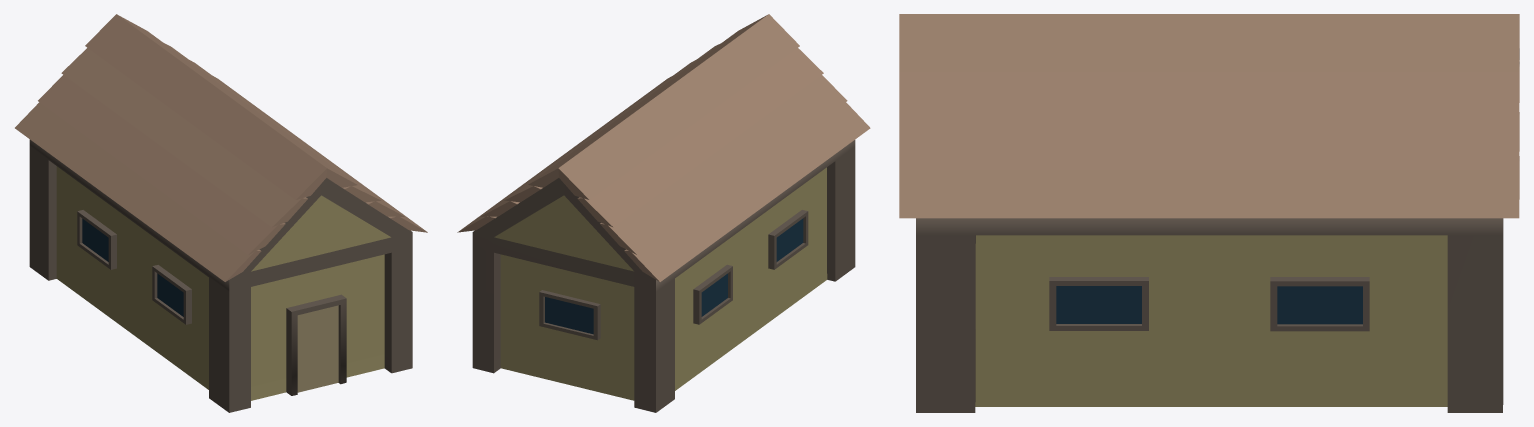
File: BuildingHouse1.fbx
3 views of the same model, side by side, from view 1: azimuth 30°, elevation 25°; view 2: azimuth 150°, elevation 25°; view 3: azimuth 270°, elevation 25° (orthographic). The views are drawn at different scales.
Parts seen in each view (by area): view 1: House1; view 2: House1; view 3: House1.
Part boxes in pixels (bbox=[...]): House1: bbox=[15, 14, 427, 412]; House1: bbox=[457, 14, 870, 412]; House1: bbox=[899, 14, 1519, 412].
Size of the model in its own units: 6.25 by 6.67 by 11.24.
